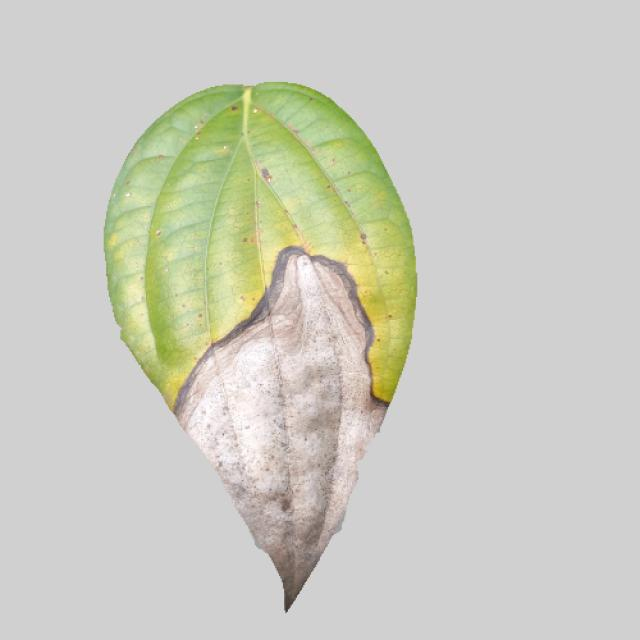leaf-blight: (86, 88, 438, 614)
